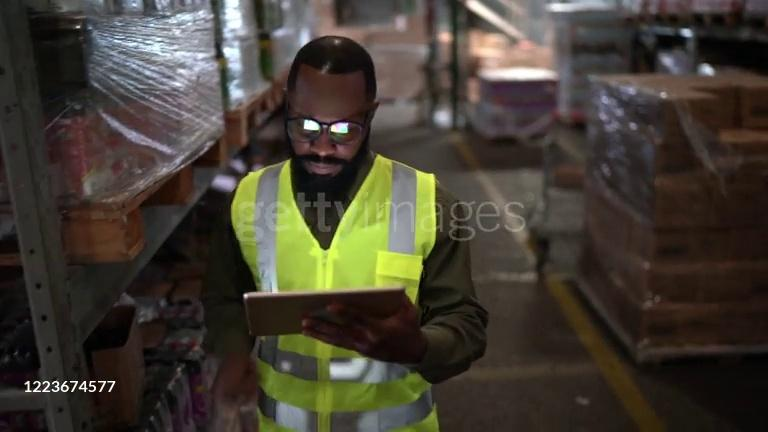person: (203, 34, 487, 432)
